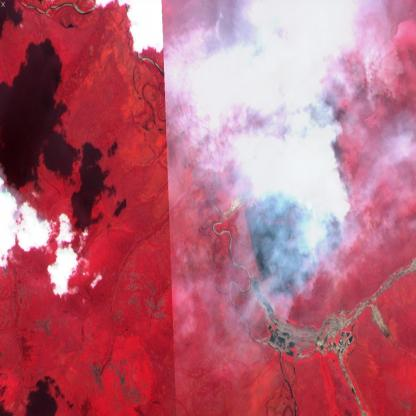fire: (242, 171, 344, 308)
